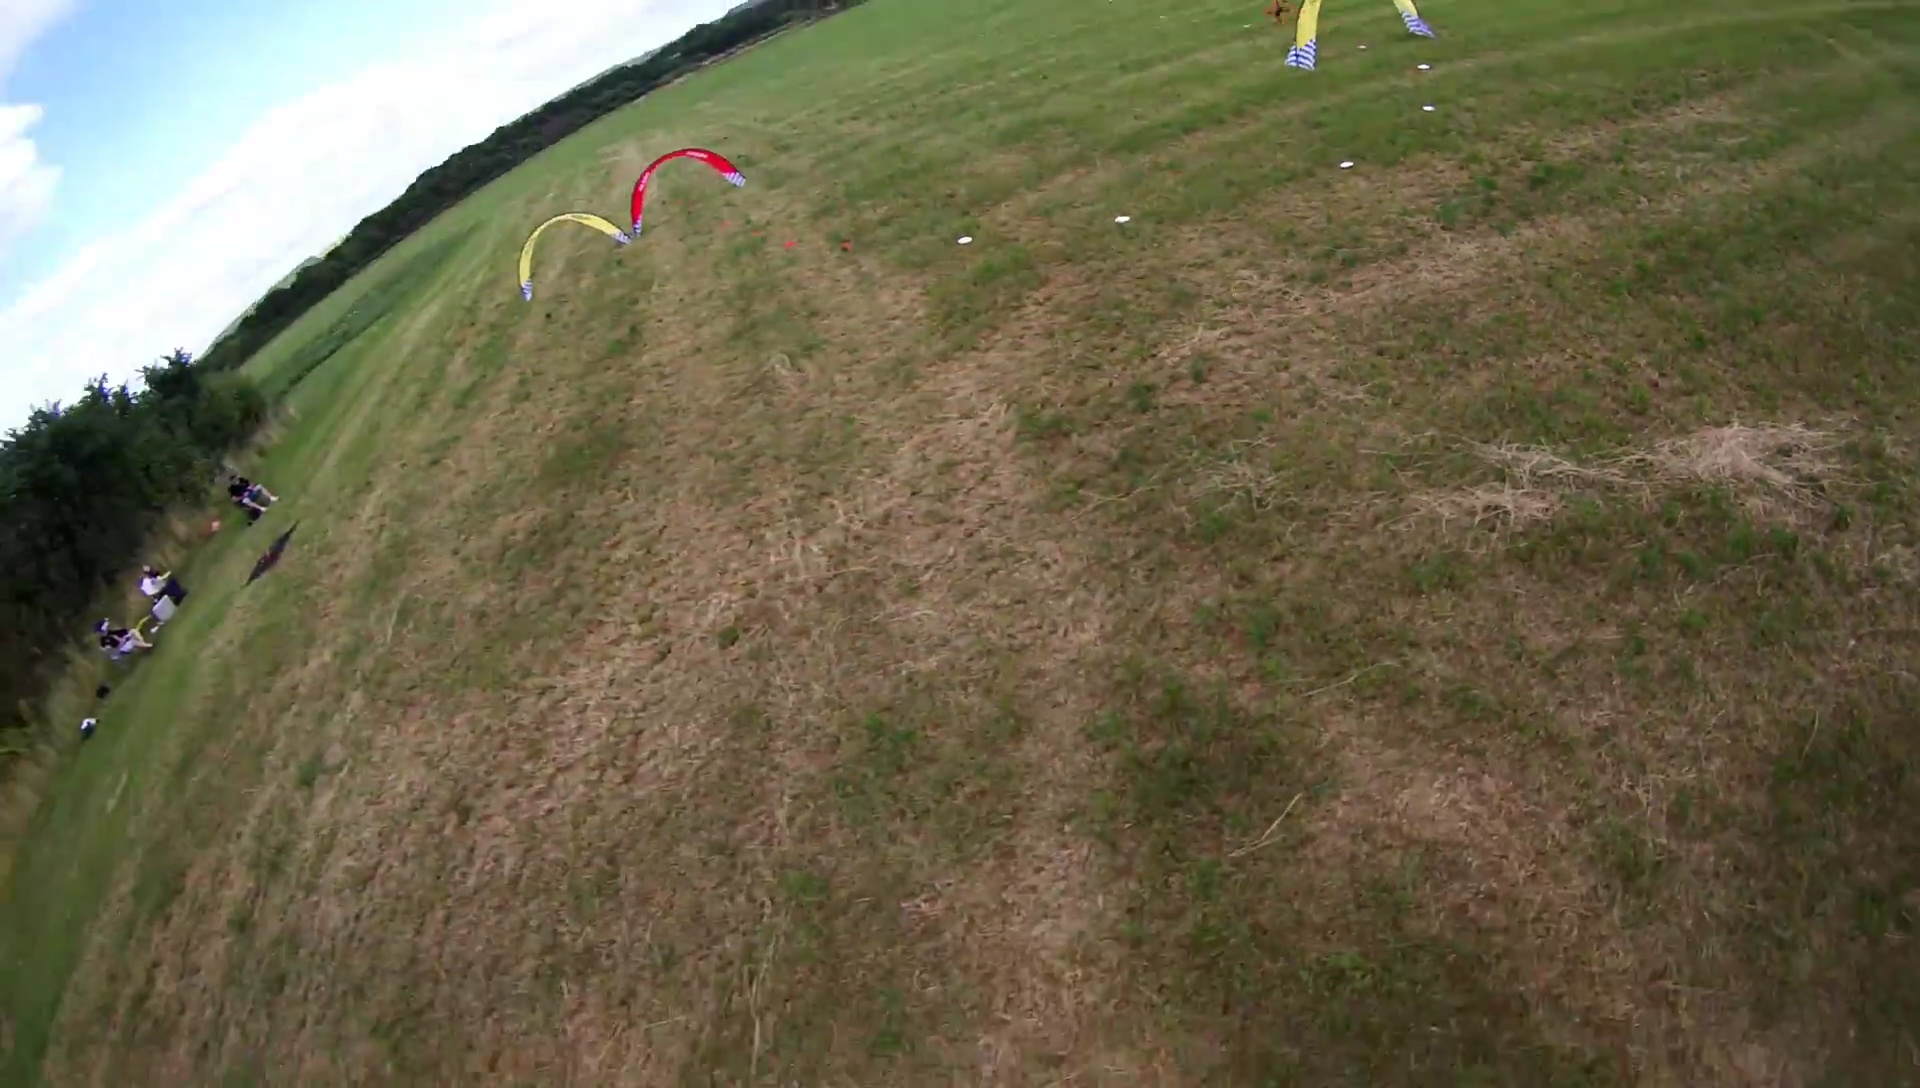gate: (628, 145, 750, 243), (1284, 1, 1436, 73), (518, 208, 626, 303)
